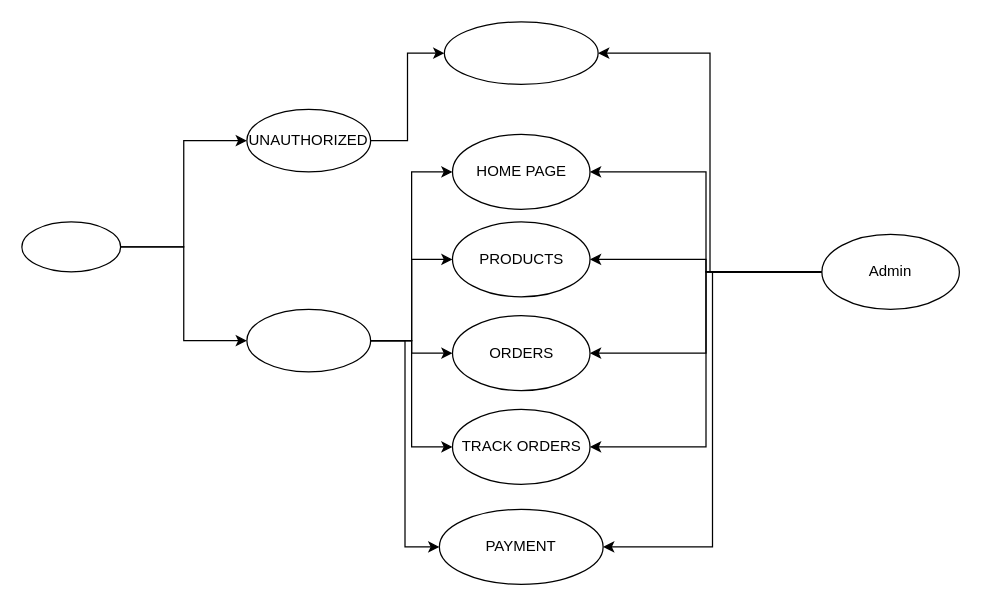
The diagram is 981 pixels wide and 606 high, and some of its shapes have lost their labels. Here are the shapes that lost their labels. From the top down, the centre of each, then its label:
(520,52): WELCOME PAGE
(71,246): USERS
(308,340): AUTHORIZED
